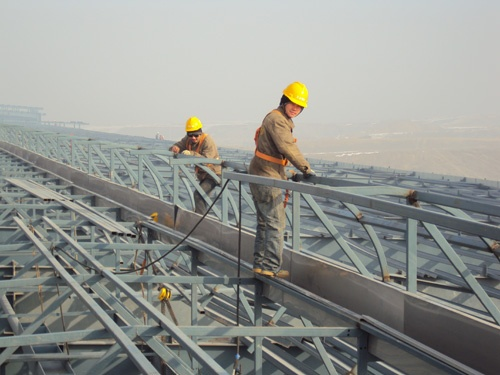yellow: (279, 80, 309, 119), (184, 117, 202, 142)
